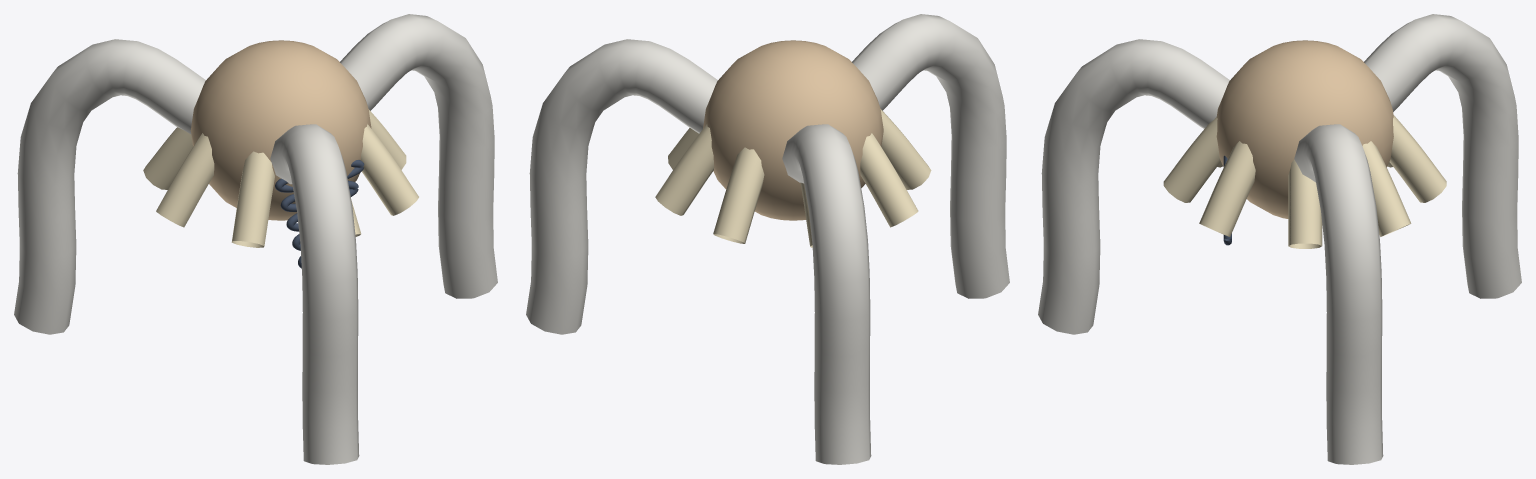
File: bio_tripod_bell_03_near.glb
The picture shows the model from 3 angles, left to right: view 1: azimuth 30°, elevation 25°; view 2: azimuth 150°, elevation 25°; view 3: azimuth 270°, elevation 25°; orthographic projection.
Visible parts, largest first — view 1: Arched tripod.001, Arched tripod, Arched tripod.002, Hanging bell core, Flared rib.005, Flared rib.004, Flared rib.007, Flared rib.003, Underside pressure folds, Flared rib; view 2: Arched tripod, Arched tripod.002, Arched tripod.001, Hanging bell core, Flared rib.002, Flared rib.004, Flared rib.001, Flared rib.005, Flared rib; view 3: Arched tripod.002, Arched tripod.001, Arched tripod, Hanging bell core, Flared rib.007, Flared rib, Flared rib.002, Flared rib.006, Flared rib.001.
Part boxes in pixels (x1,y1,x2,y2): Arched tripod.001: [14, 39, 205, 334]; Arched tripod: [340, 14, 497, 298]; Arched tripod.002: [270, 124, 359, 464]; Hanging bell core: [190, 40, 371, 220]; Flared rib.005: [231, 151, 274, 247]; Flared rib.004: [156, 133, 214, 227]; Flared rib.007: [360, 124, 418, 215]; Flared rib.003: [143, 127, 192, 189]; Underside pressure folds: [275, 160, 364, 268]; Flared rib: [368, 109, 406, 169]; Arched tripod: [526, 39, 717, 334]; Arched tripod.002: [852, 14, 1009, 298]; Arched tripod.001: [782, 124, 871, 464]; Hanging bell core: [703, 40, 883, 220]; Flared rib.002: [713, 147, 764, 243]; Flared rib.004: [860, 133, 918, 227]; Flared rib.001: [655, 124, 714, 215]; Flared rib.005: [880, 109, 931, 189]; Flared rib: [668, 128, 698, 169]; Arched tripod.002: [1038, 39, 1229, 334]; Arched tripod.001: [1364, 14, 1521, 298]; Arched tripod: [1294, 124, 1383, 464]; Hanging bell core: [1216, 40, 1393, 218]; Flared rib.007: [1199, 141, 1255, 236]; Flared rib: [1288, 159, 1322, 248]; Flared rib.002: [1389, 115, 1446, 202]; Flared rib.006: [1163, 117, 1220, 202]; Flared rib.001: [1362, 141, 1411, 236].
Size of the model in its own units: 2.49 by 1.82 by 2.57.
